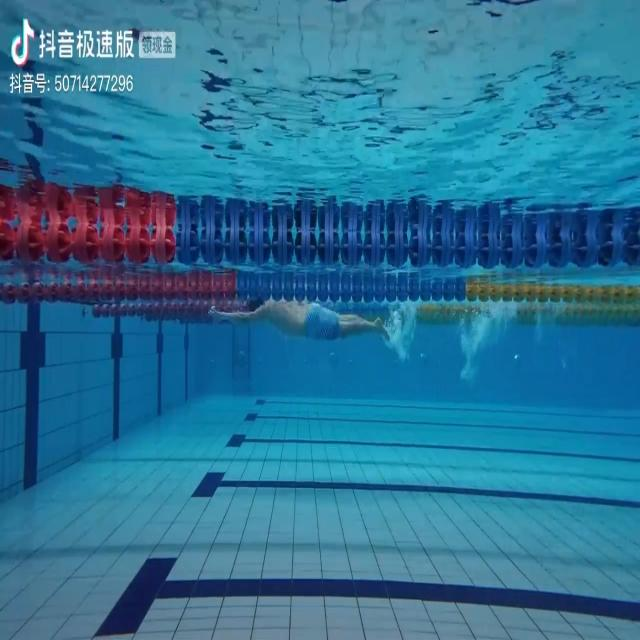Swimming: (208, 298, 390, 348)
